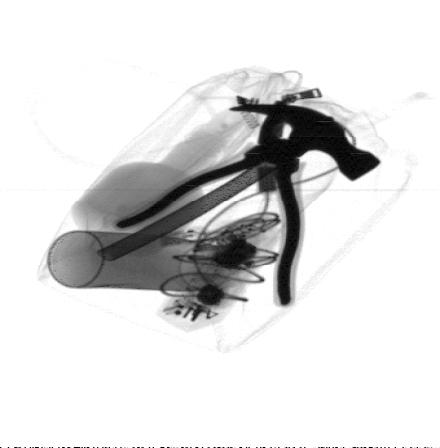Hammer: (94, 104, 385, 263)
Pliers: (111, 98, 336, 309)
